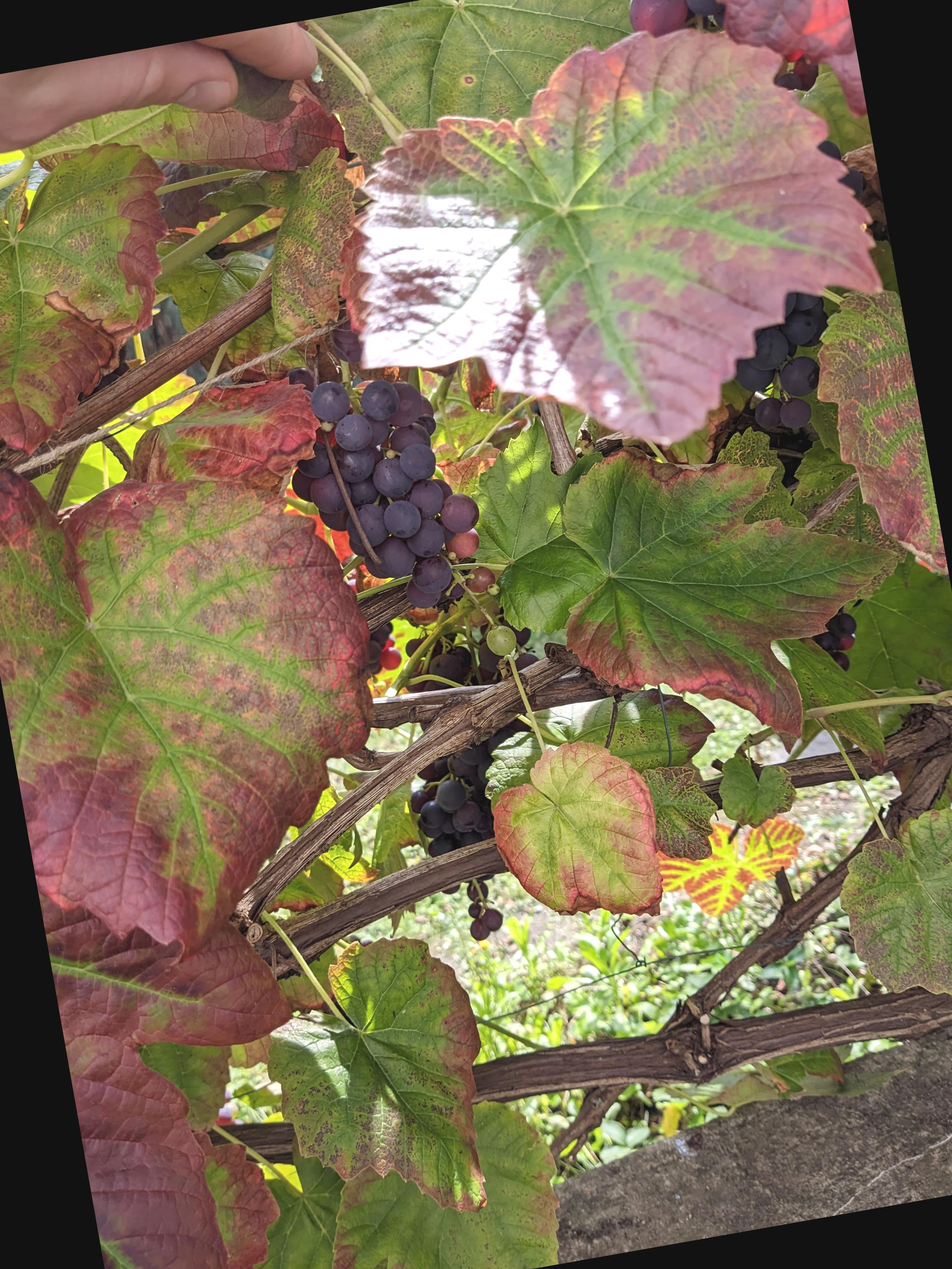Grape Ripe: (280, 691, 478, 1036), (601, 221, 813, 527), (175, 441, 402, 713), (522, 20, 737, 209), (261, 702, 311, 762)
